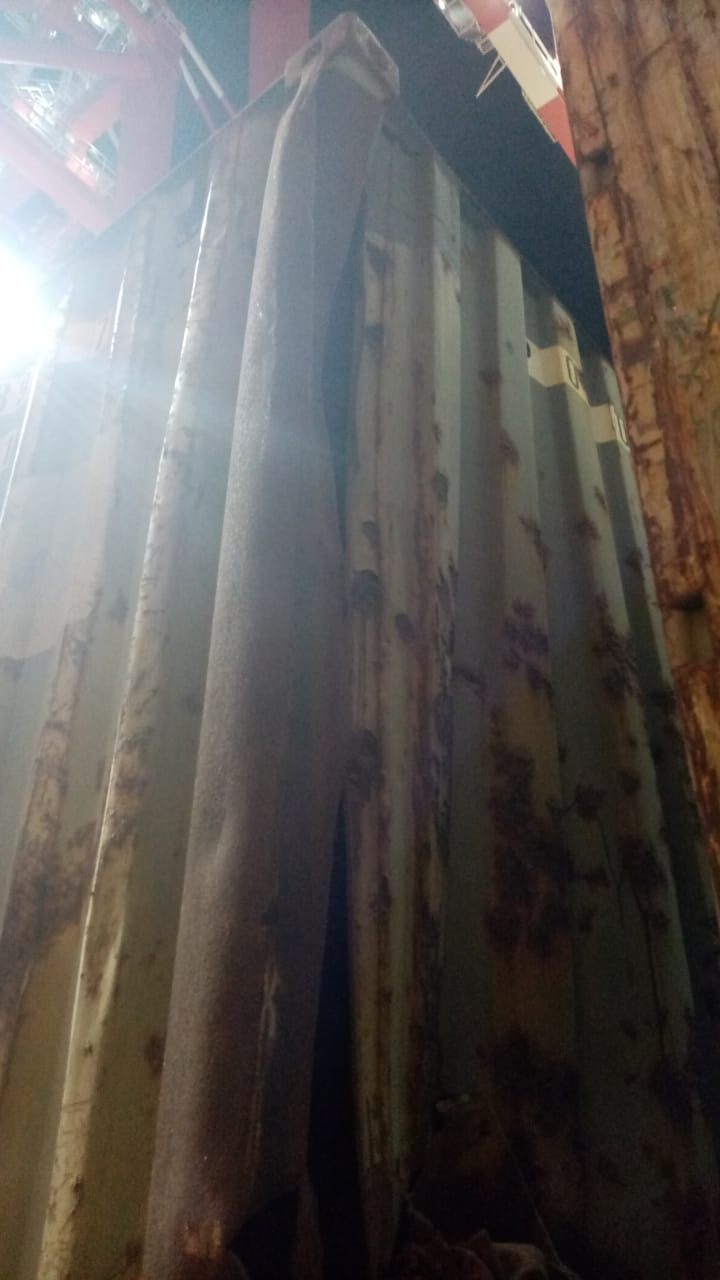dented: (300, 176, 386, 522)
